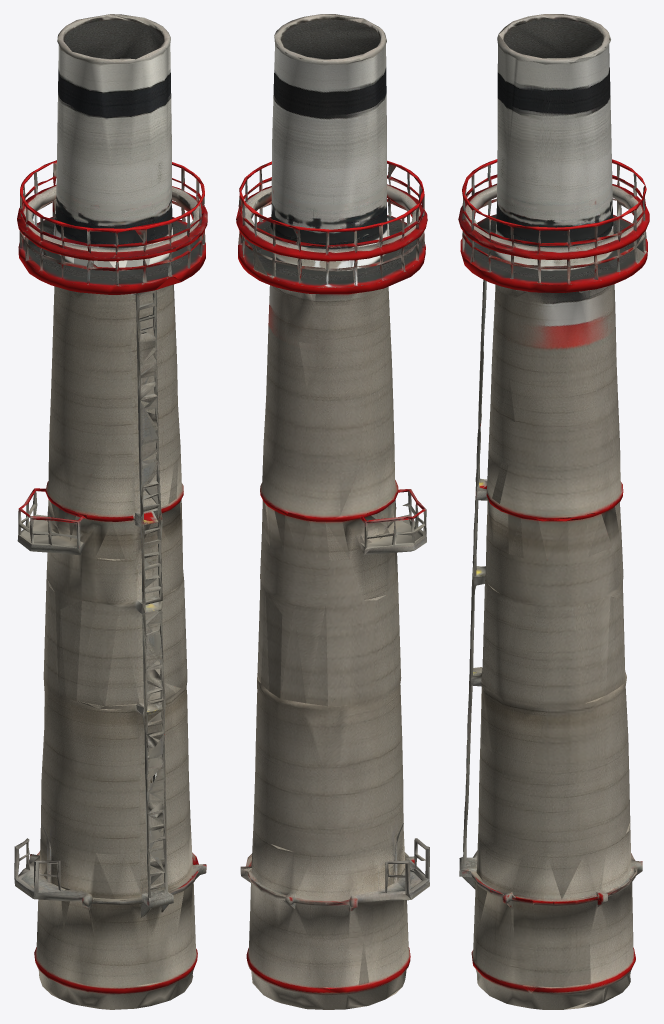
Rendered from Scenery_Chimney.fbx.
3 renders of one model, left to right at view 1: azimuth 30°, elevation 25°; view 2: azimuth 150°, elevation 25°; view 3: azimuth 270°, elevation 25°, orthographic.
Parts seen in each view (by area): view 1: Mesh_0; view 2: Mesh_0; view 3: Mesh_0.
Boxes of the visible parts, x1,y1,x2,y2 form: Mesh_0: (14, 14, 207, 1009); Mesh_0: (236, 14, 429, 1009); Mesh_0: (458, 14, 649, 1009).
Bounding box in the file's own units: 36.41 × 190 × 35.08.
1 material, 1 textured.
